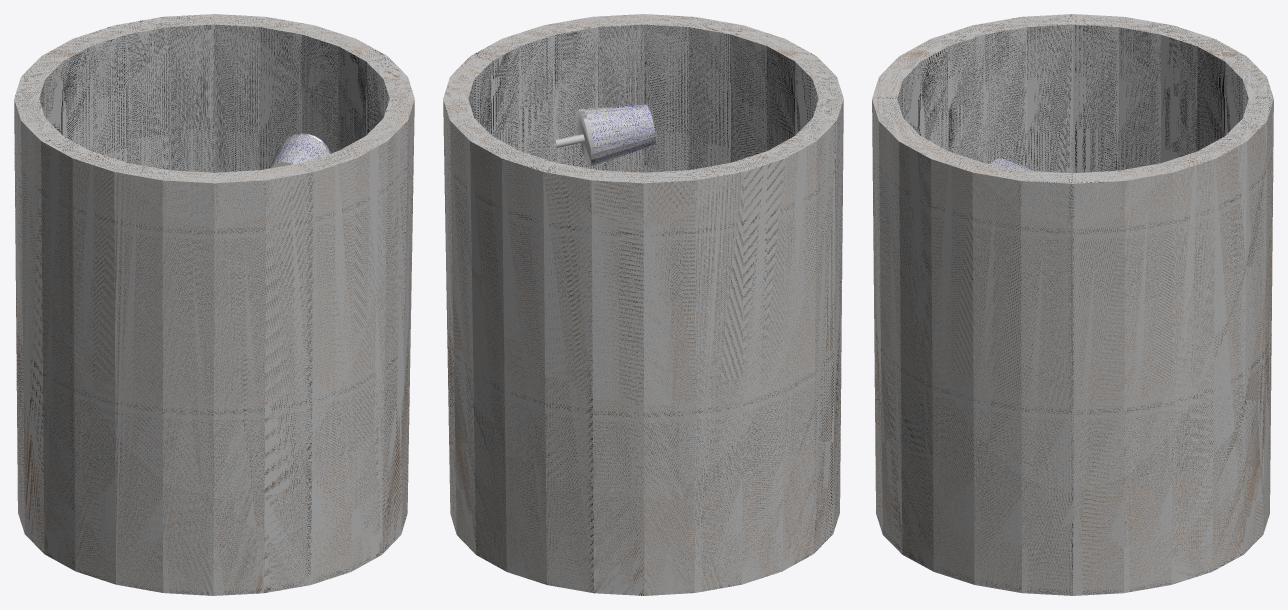
The picture shows the model from 3 angles, left to right: view 1: azimuth 30°, elevation 25°; view 2: azimuth 150°, elevation 25°; view 3: azimuth 270°, elevation 25°; orthographic projection.
Parts seen in each view (by area): view 1: mesh1.001_mesh1-geometry, mesh7.006_mesh7-geometry; view 2: mesh1.001_mesh1-geometry, mesh7.006_mesh7-geometry; view 3: mesh1.001_mesh1-geometry.
Part boxes in pixels (x1,y1,x2,y2): mesh1.001_mesh1-geometry: (14,14,414,595); mesh7.006_mesh7-geometry: (269,133,330,168); mesh1.001_mesh1-geometry: (443,14,843,595); mesh7.006_mesh7-geometry: (554,104,655,166); mesh1.001_mesh1-geometry: (872,14,1273,595).
Bounding box in the file's own units: 0.5504 × 0.6278 × 0.5504.
Materials: 10 (2 with a texture image).
